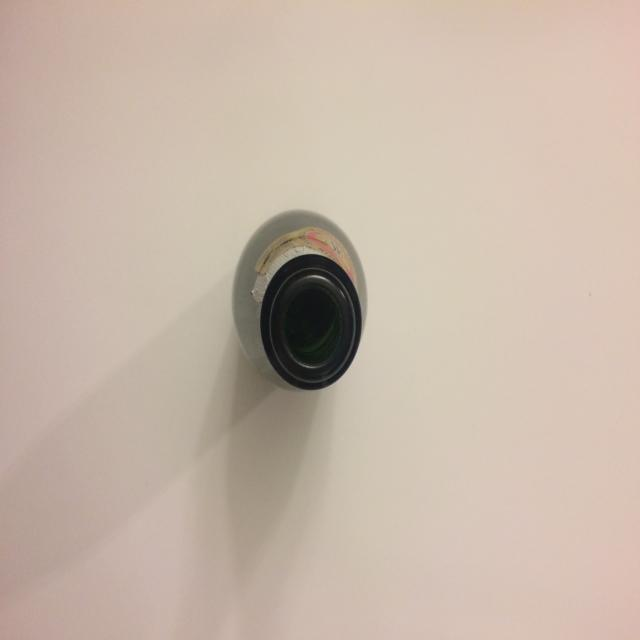glass: (232, 208, 366, 392)
